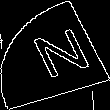N_S: (19, 24, 91, 86)
